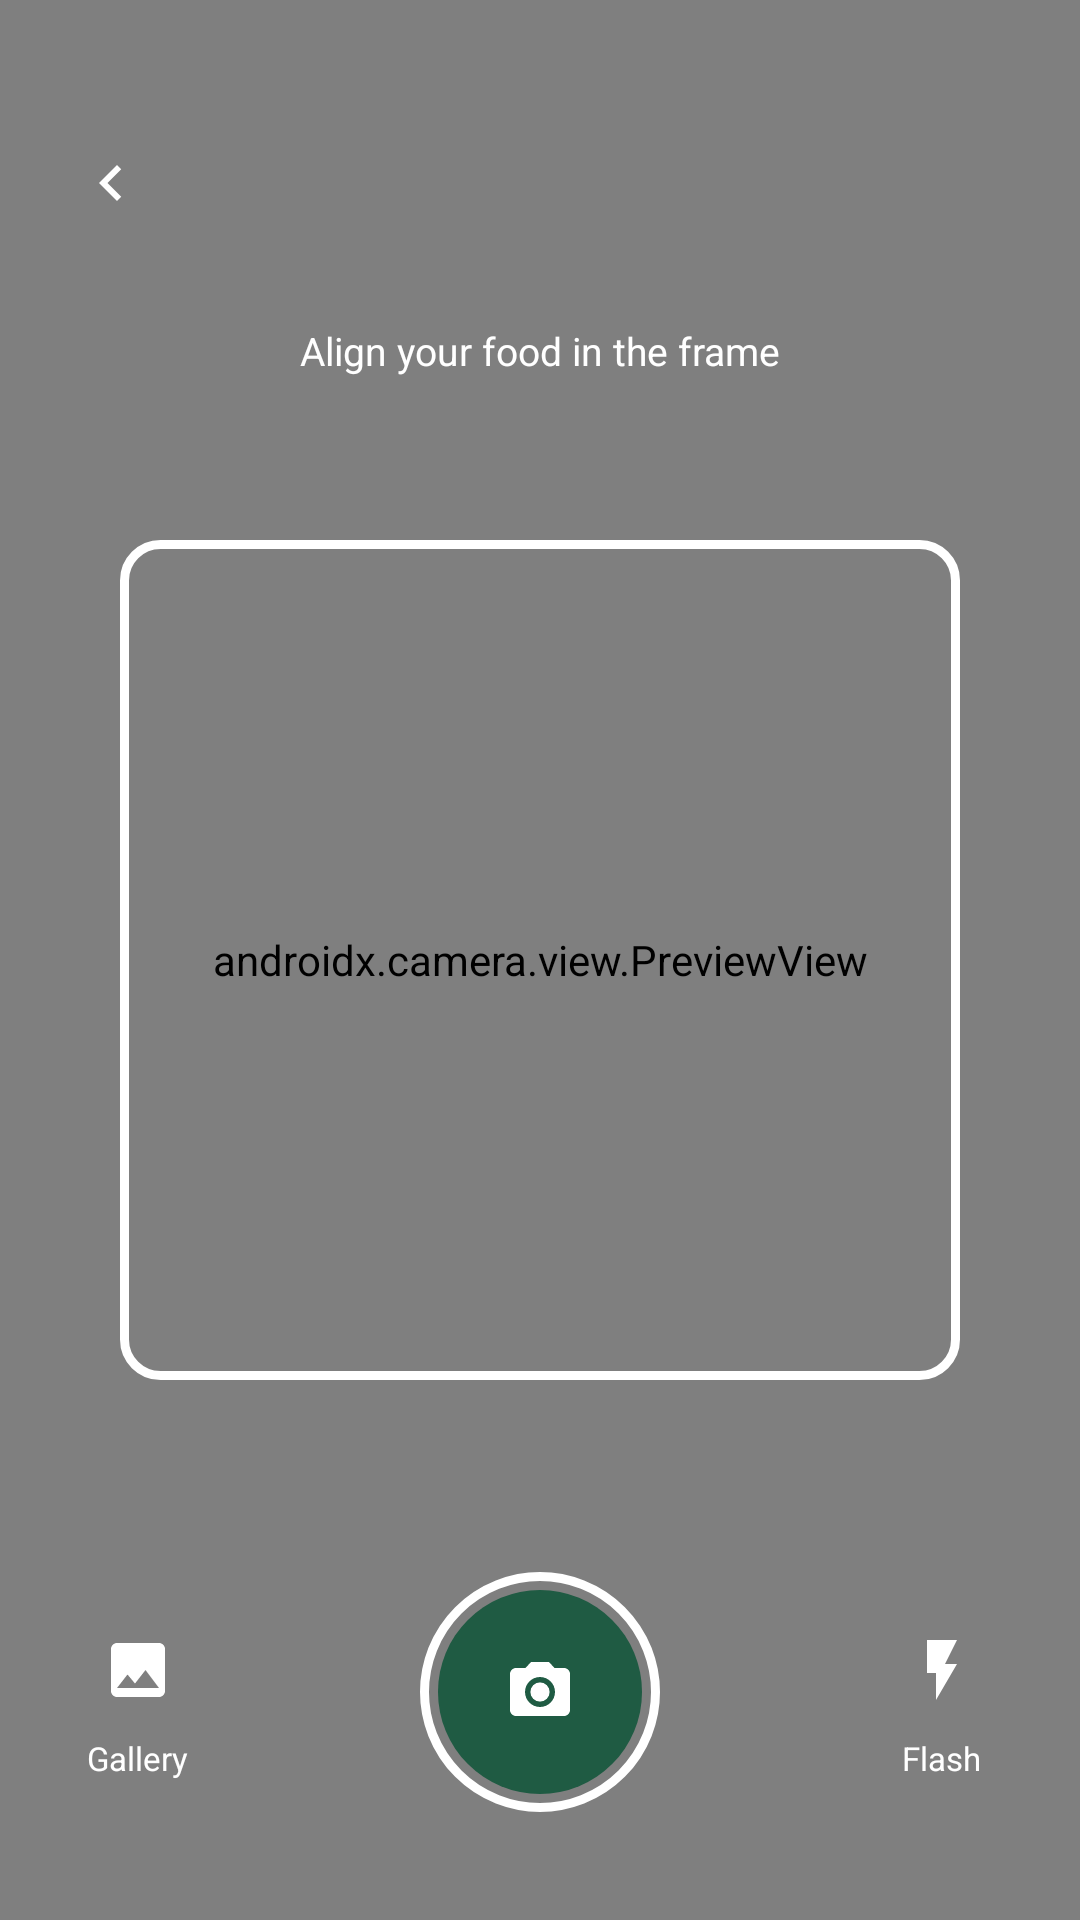

Icon bounding boxes for this 1080 x 1920 phone screenshot, format [x1, y1, x2, y2]:
Back: [99, 165, 121, 201]
Capture: [420, 1572, 660, 1812]
